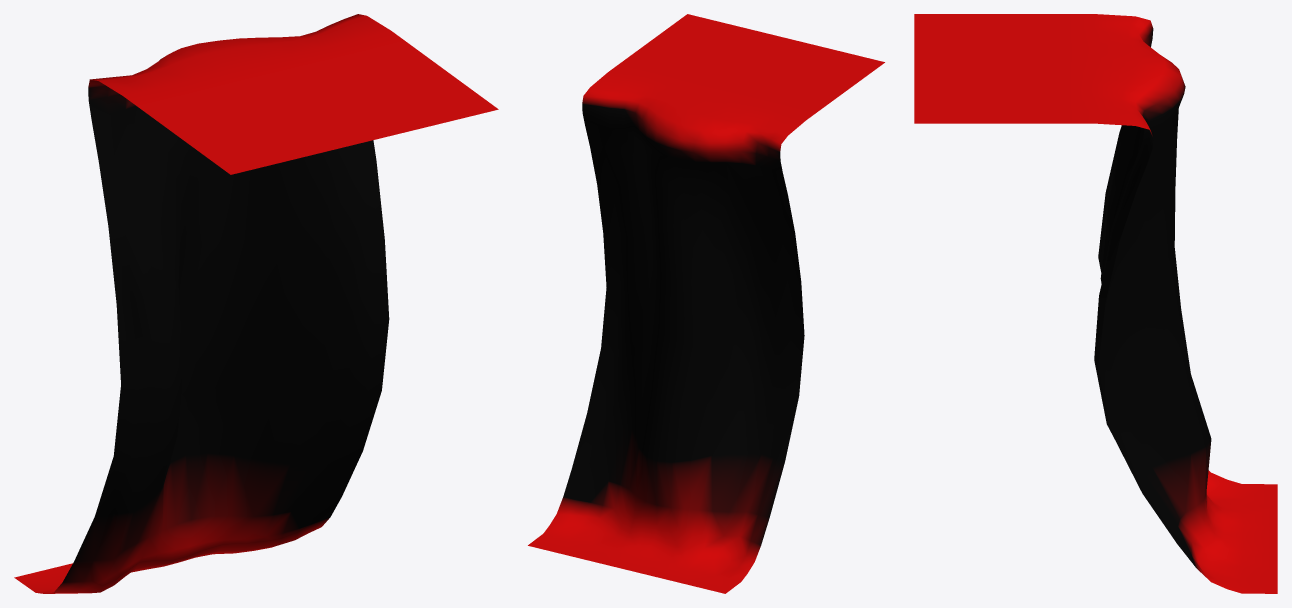
Rendered from GroundCliff00D 2M Foreground.fbx.
3 renders of one model, left to right at view 1: azimuth 30°, elevation 25°; view 2: azimuth 150°, elevation 25°; view 3: azimuth 270°, elevation 25°, orthographic. The views are drawn at different scales.
Visible parts, largest first — view 1: GroundCliff00D 2M Foreground; view 2: GroundCliff00D 2M Foreground; view 3: GroundCliff00D 2M Foreground.
Boxes of the visible parts, x1,y1,x2,y2 form: GroundCliff00D 2M Foreground: (14,14,498,593); GroundCliff00D 2M Foreground: (528,14,884,593); GroundCliff00D 2M Foreground: (914,14,1277,593).
Size of the model in its own units: 1 by 2 by 1.4.
